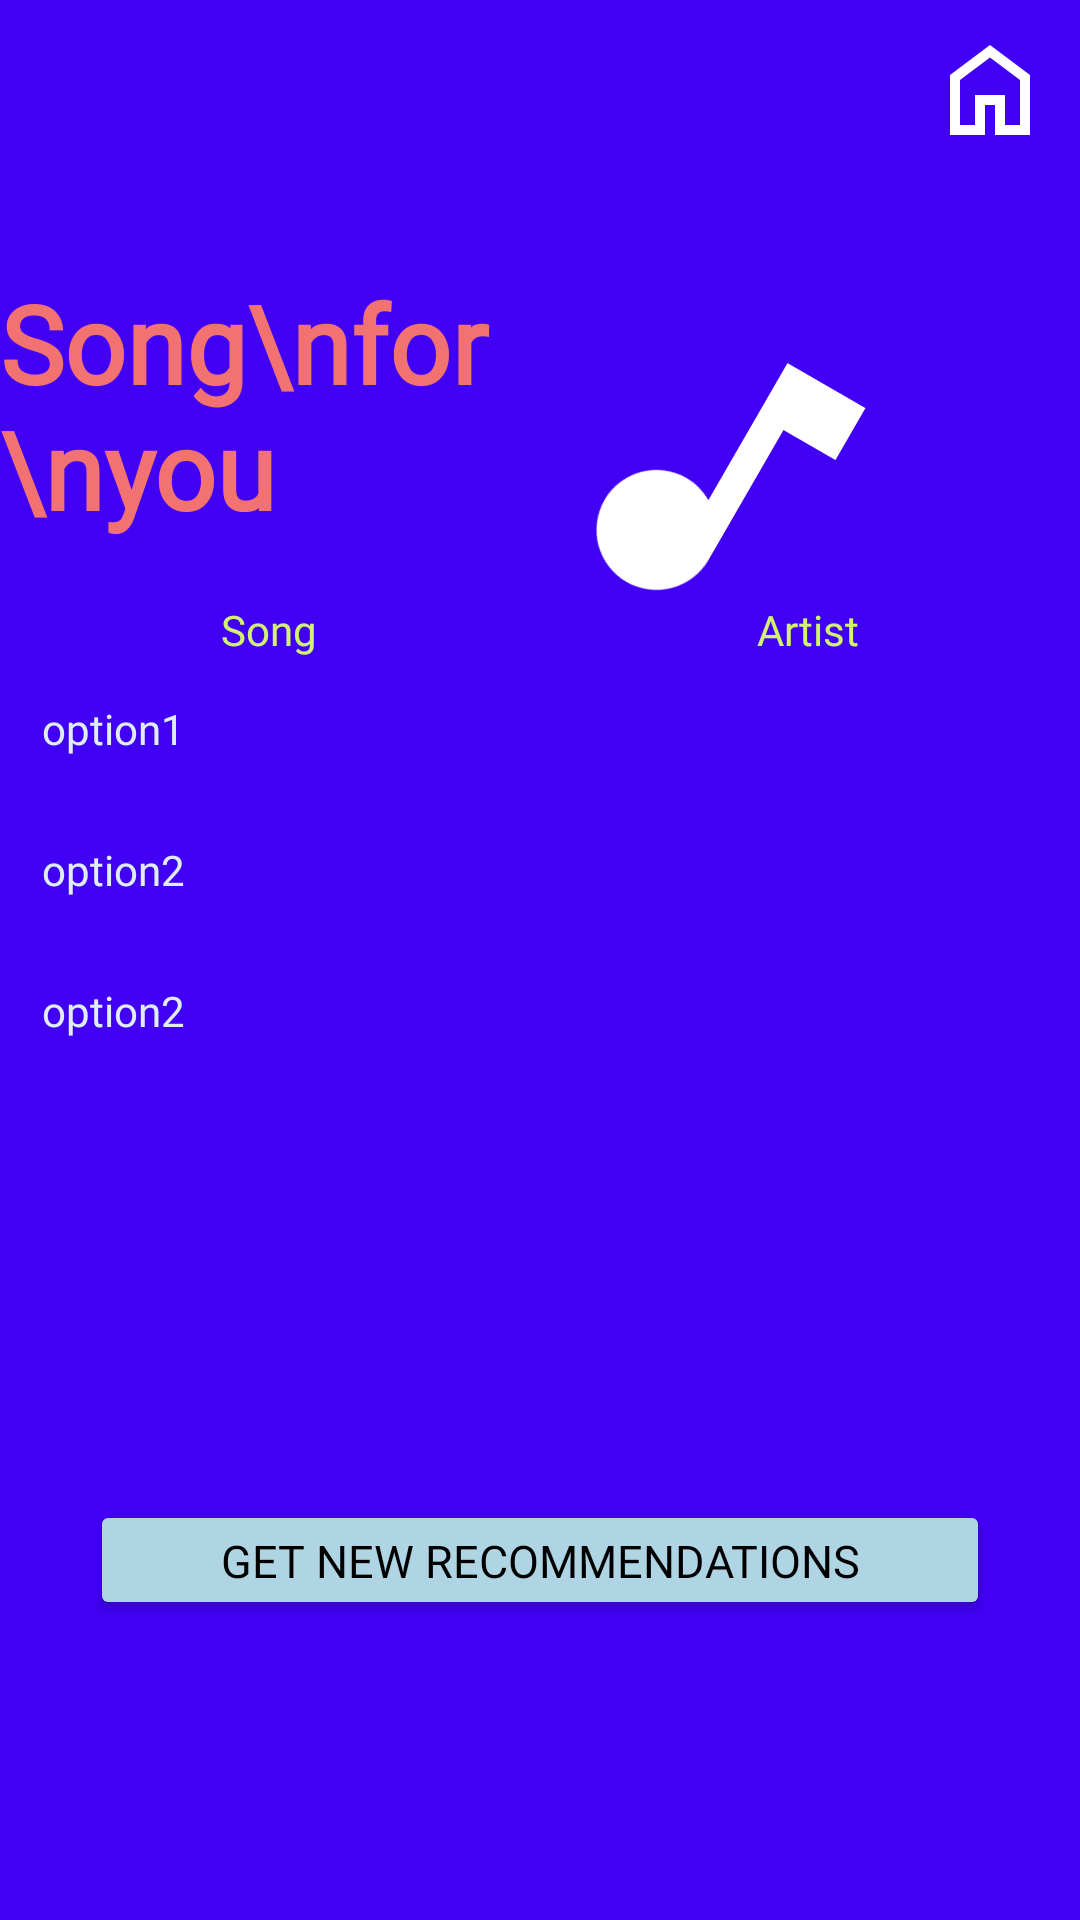

Icon click points for this 1080×1920 phone screenshot, format [x,y]:
home: [990,90]
